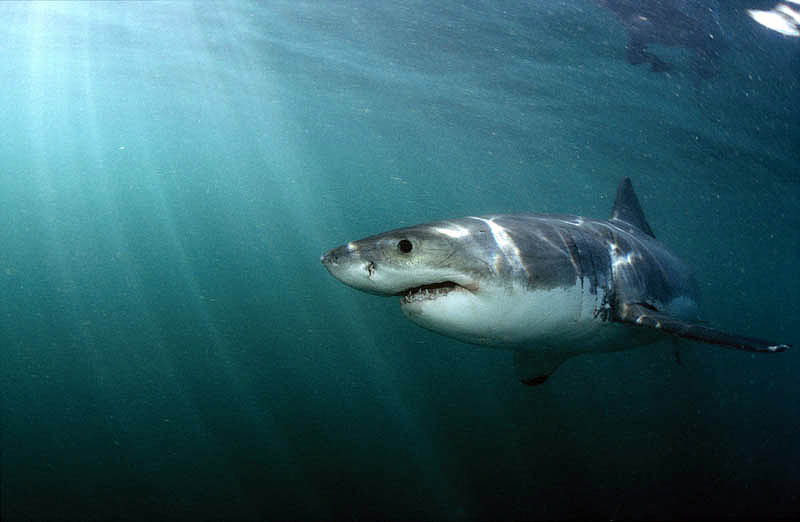Carcharodon_carcharias: (289, 174, 800, 400)
